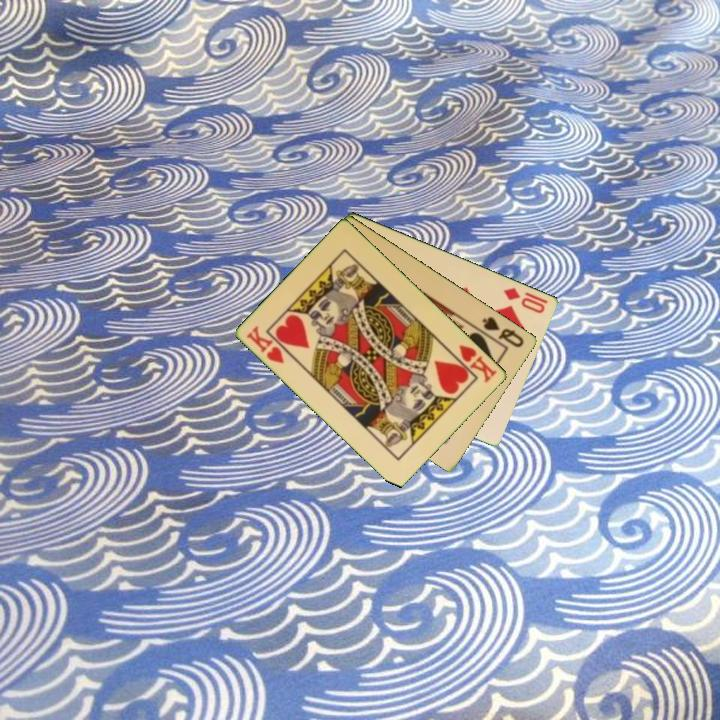10d: (500, 284, 548, 316)
Kh: (447, 341, 500, 386), (243, 322, 288, 367)
Qs: (479, 313, 527, 350)
